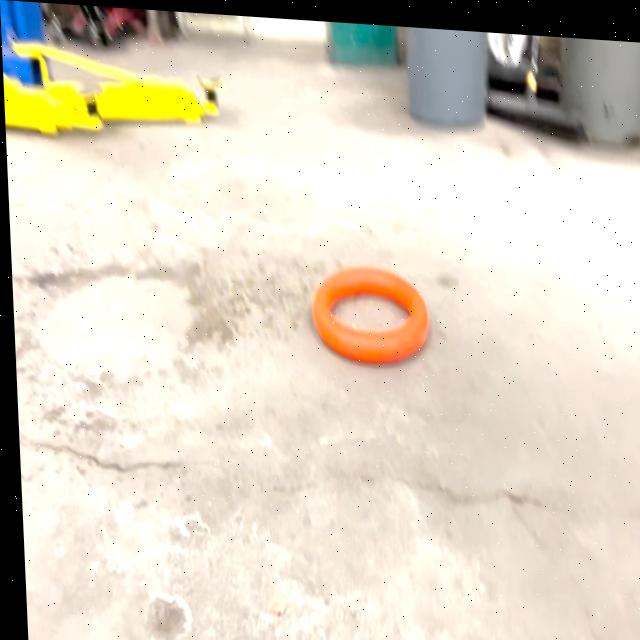note: (305, 256, 427, 363)
